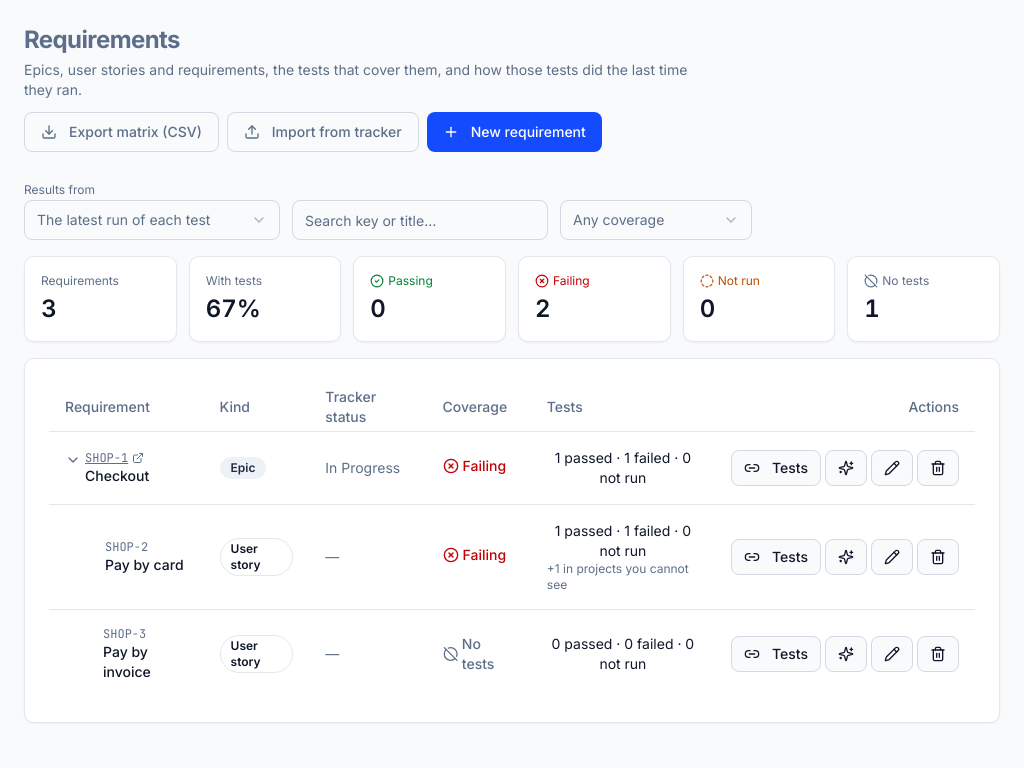
Scenario: RequirementsPage › filters by coverage, and exports what is on screen
Check: the row with test id "requirement-SHOP-1" is shown, box [49,431,975,504]
Type "invoice" into the field labelled "Search key or title…" at point(420, 220), box [292,200,548,240]
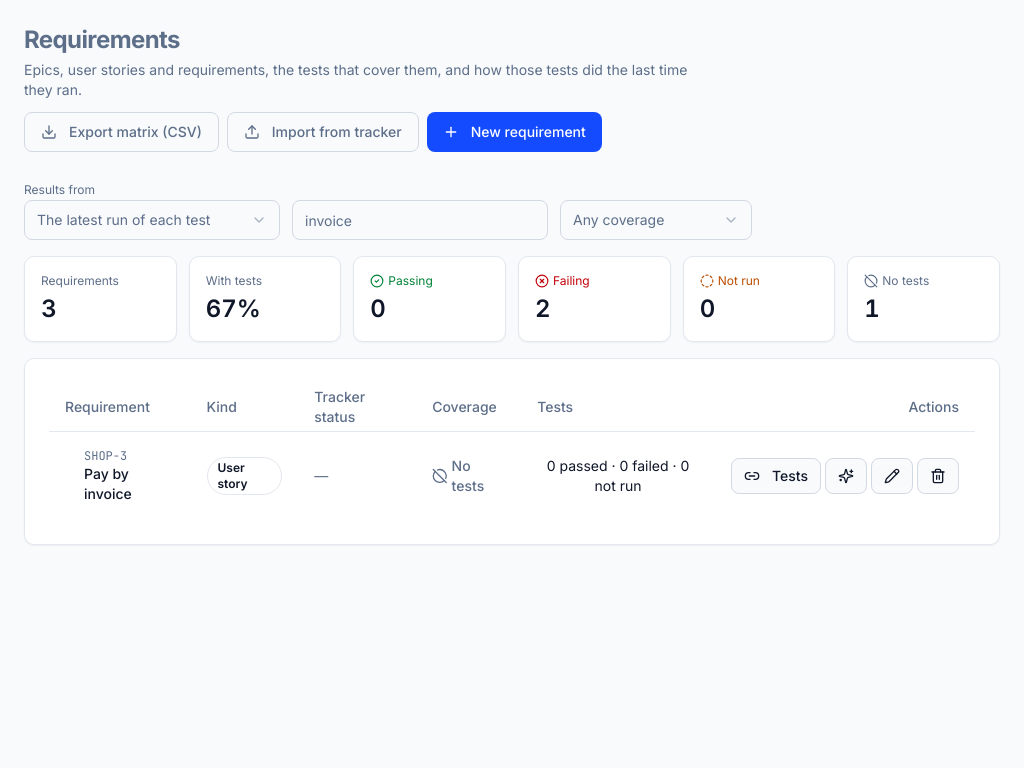
Check: the row with test id "requirement-SHOP-3" is shown, box [49,431,975,520]
Check: the row with test id "requirement-SHOP-2" is gone
